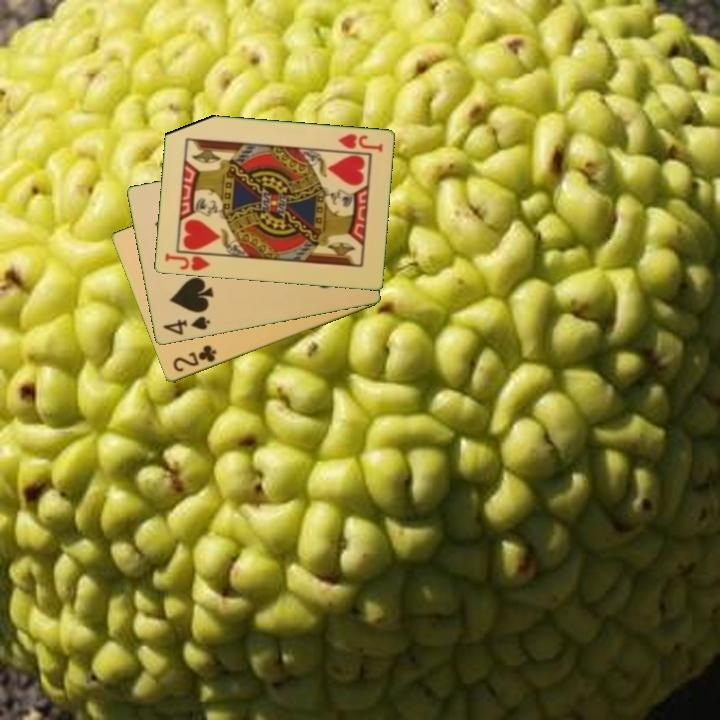2c: (169, 342, 220, 375)
4s: (159, 313, 213, 338)
Jh: (334, 130, 385, 155), (161, 250, 213, 274)
